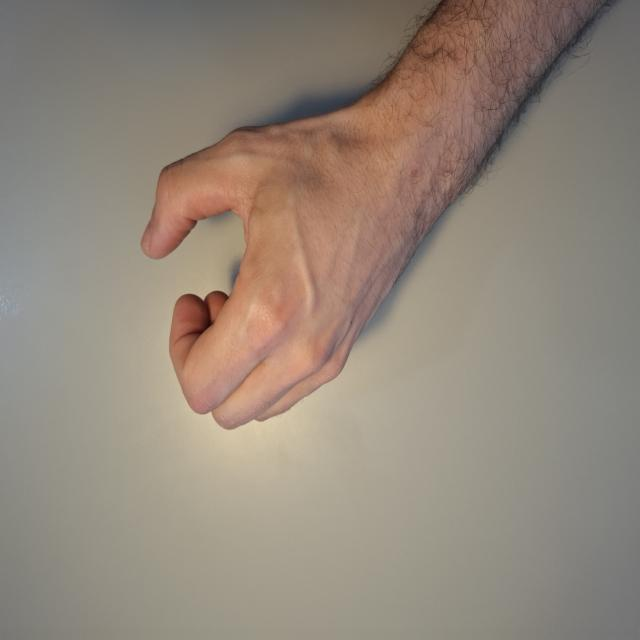glove_off: (137, 88, 416, 434)
